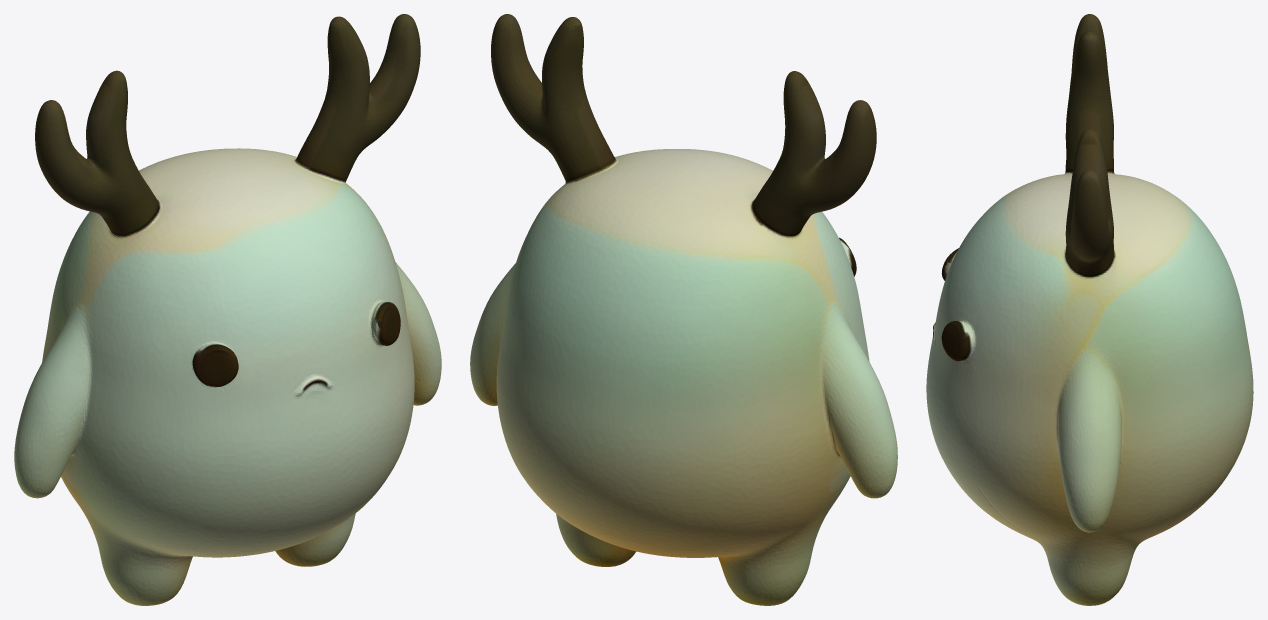
The picture shows the model from 3 angles, left to right: view 1: azimuth 30°, elevation 25°; view 2: azimuth 150°, elevation 25°; view 3: azimuth 270°, elevation 25°; orthographic projection. The views are drawn at different scales.
Visible parts, largest first — view 1: tmpo8t61798.ply; view 2: tmpo8t61798.ply; view 3: tmpo8t61798.ply.
Boxes of the visible parts, x1,y1,x2,y2 form: tmpo8t61798.ply: (14, 14, 441, 605); tmpo8t61798.ply: (470, 14, 897, 605); tmpo8t61798.ply: (926, 14, 1253, 605).
Bounding box in the file's own units: 1.65 × 2 × 1.23.
Materials: 1 (1 with a texture image).
